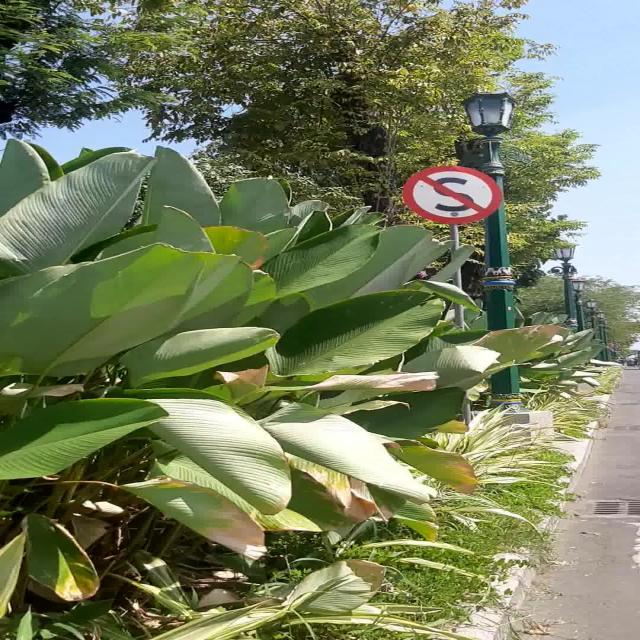Dilarang Berhenti: (402, 166, 502, 224)
